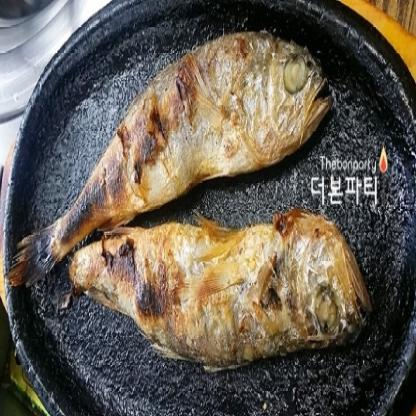Peixe: (2, 24, 367, 365)
